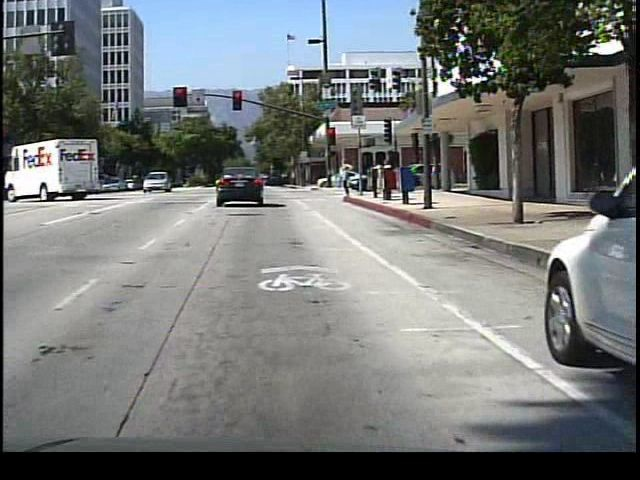person: (337, 151, 359, 200)
